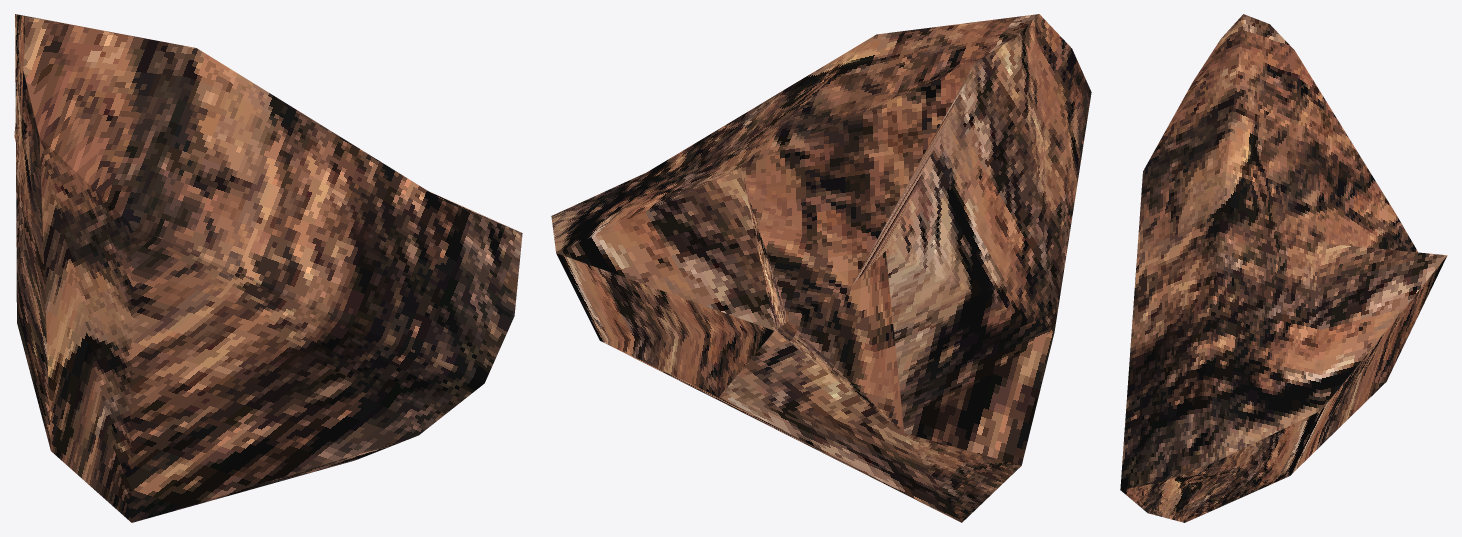
Rendered from stage-gran-p4-8.glb.
3 renders of one model, left to right at view 1: azimuth 30°, elevation 25°; view 2: azimuth 150°, elevation 25°; view 3: azimuth 270°, elevation 25°, orthographic. The views are drawn at different scales.
Size of the model in its own units: 24.67 by 24.45 by 17.41.
1 material, 1 textured.
